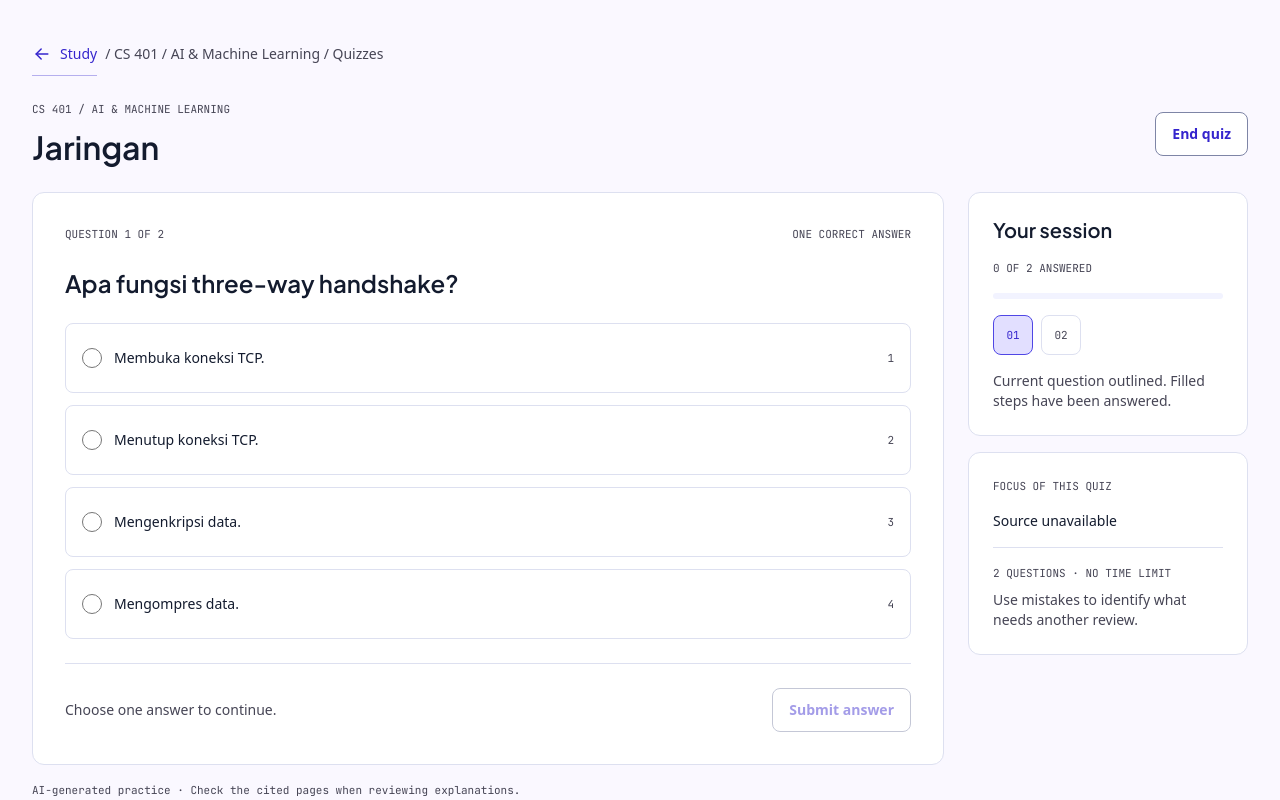
Test case: grading, per question kind › states an mcq verdict in words, not only in a tone
# The wrong option on purpose.
What coordinates should you click on to do the following:
click the radio button labelled "Menutup koneksi TCP. 2"
I would click on:
 (92, 440)
Its box is [82,430,102,450].
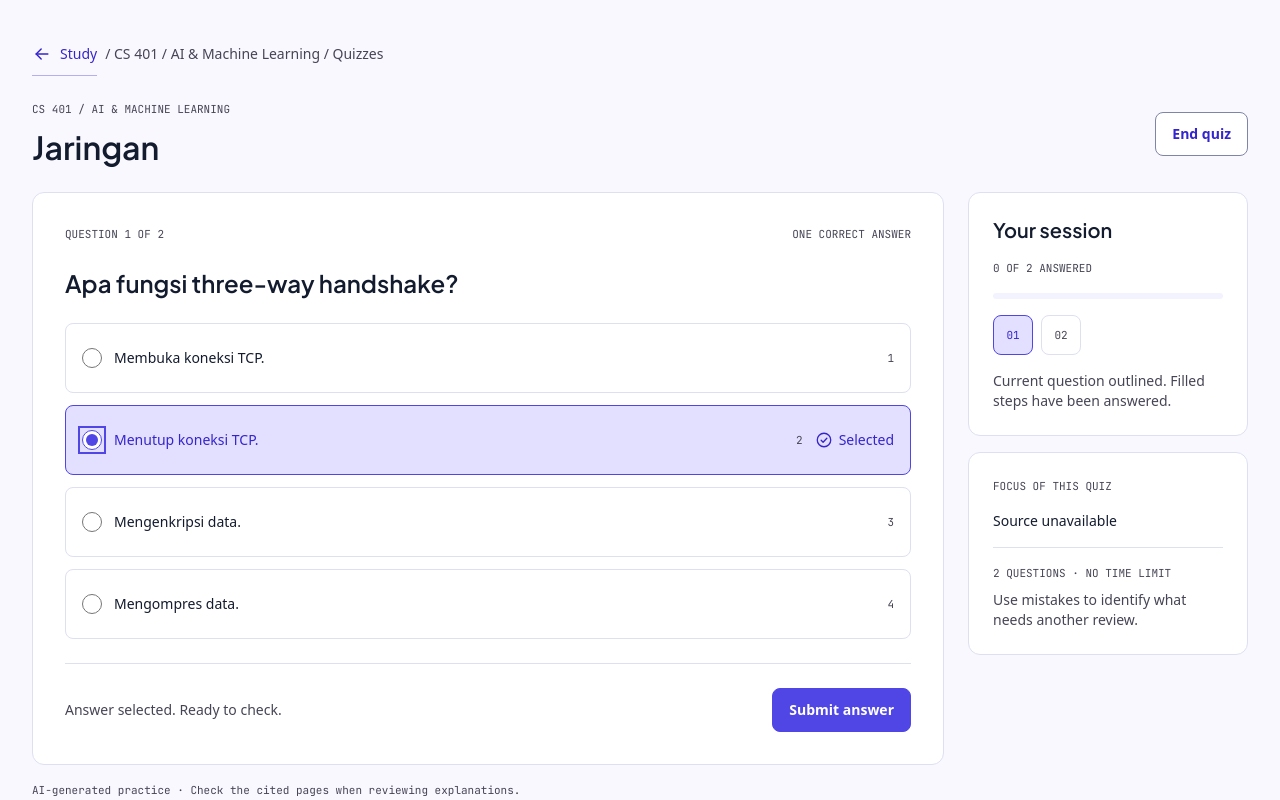
What coordinates should you click on to do the following:
click the button "Submit answer"
I would click on:
 (842, 710)
Its box is [772,688,911,732].
(page scrolled)
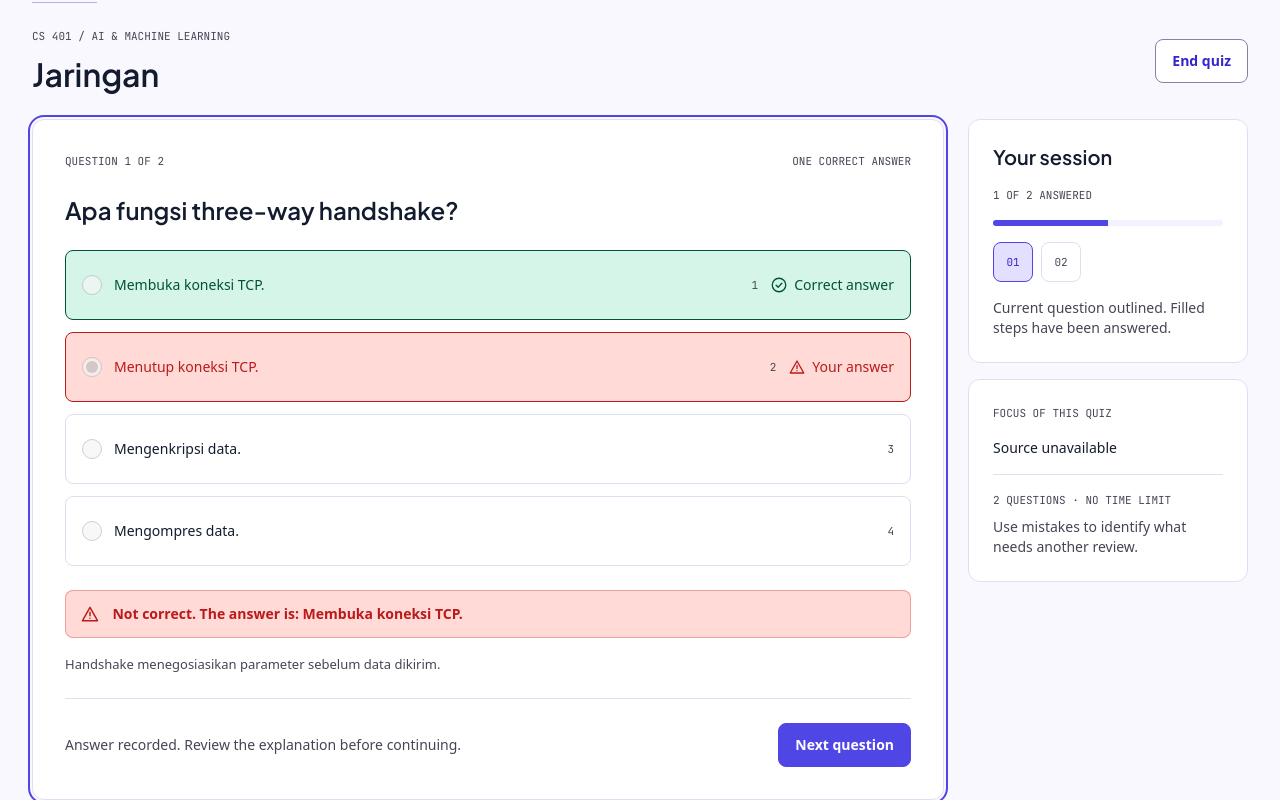
Check: the message reads "Not correct. The answer is: Membuka koneksi TCP.", box [112,604,463,623]
Check: the 3rd icon is shown, box [80,604,100,624]
